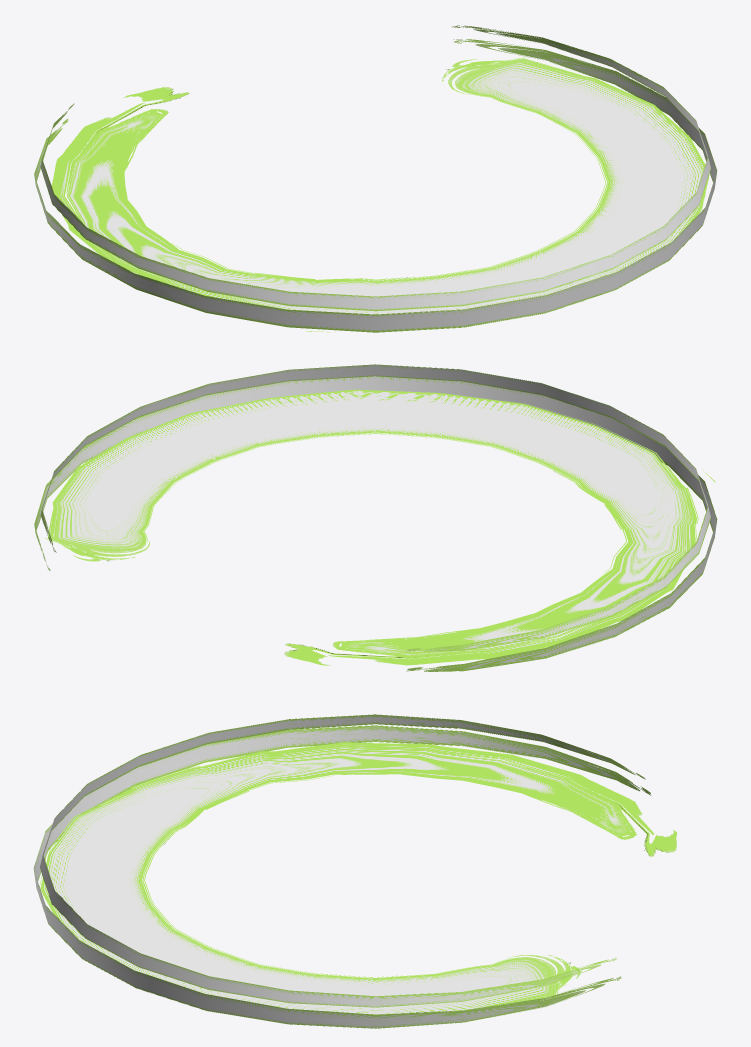
The model's file is HeroSmearEffect.fbx.
3 views of the same model, one above another, from view 1: azimuth 30°, elevation 25°; view 2: azimuth 150°, elevation 25°; view 3: azimuth 270°, elevation 25° (orthographic).
Parts seen in each view (by area): view 1: LayerSmear; view 2: LayerSmear; view 3: LayerSmear.
Boxes of the visible parts, x1,y1,x2,y2 form: LayerSmear: [34, 25, 717, 332]; LayerSmear: [34, 364, 717, 671]; LayerSmear: [33, 714, 676, 1028].
Size of the model in its own units: 882 by 48.34 by 882.
1 material, 1 textured.
